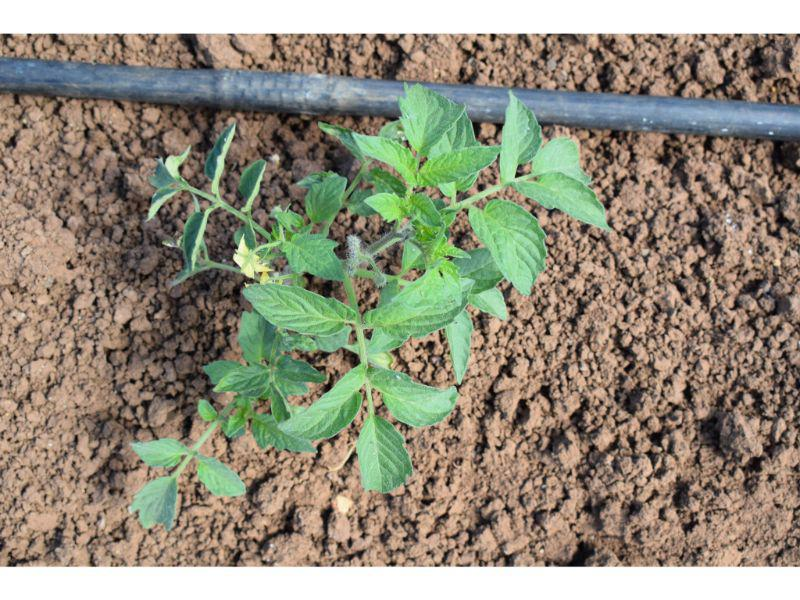tomato: (130, 87, 608, 531)
